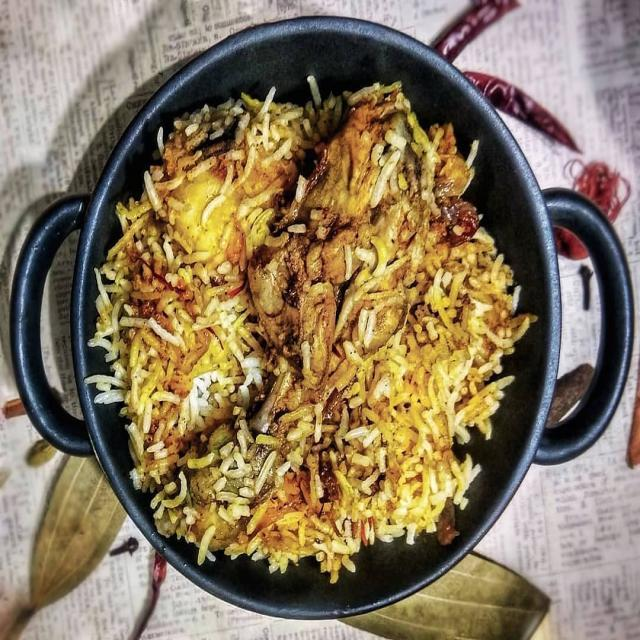biryani: (81, 42, 563, 584)
